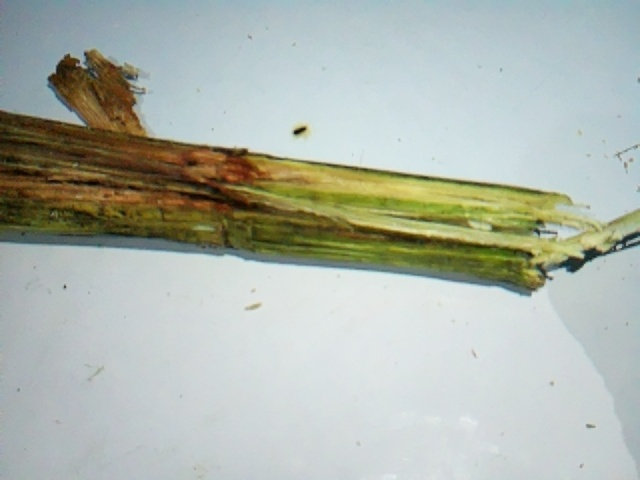Red-Rot: (0, 103, 320, 267)
